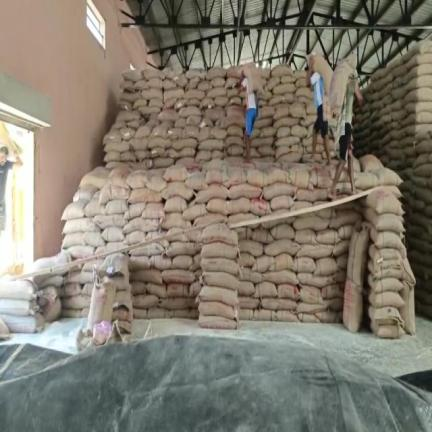Zone-Counting: (329, 53, 362, 199), (308, 53, 331, 163), (239, 63, 259, 160)
